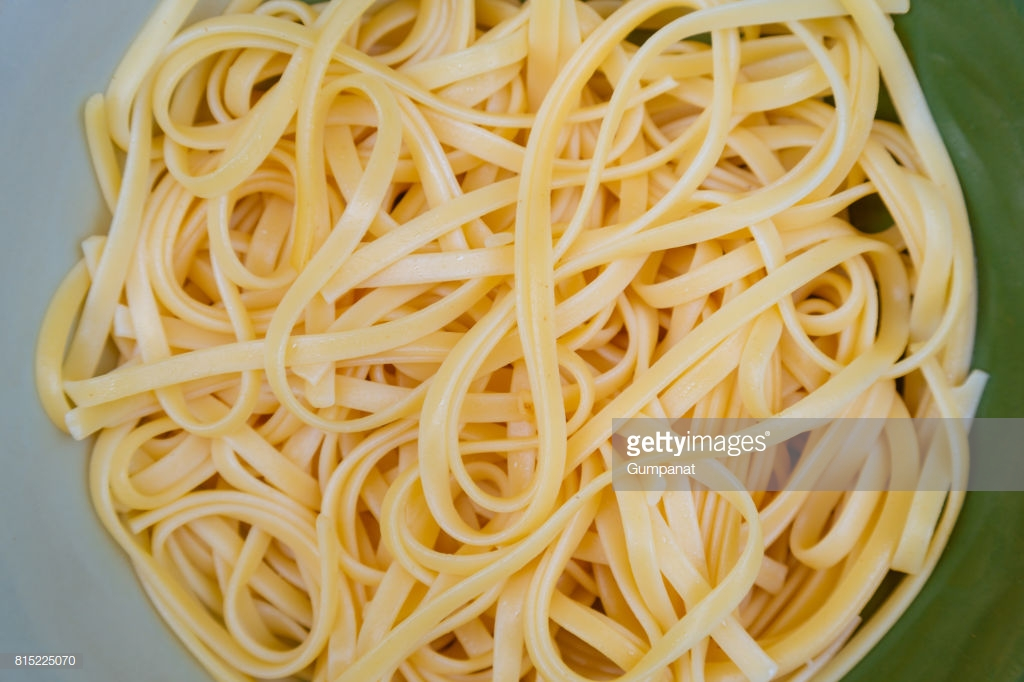plain spaghetti: (178, 69, 850, 384)
